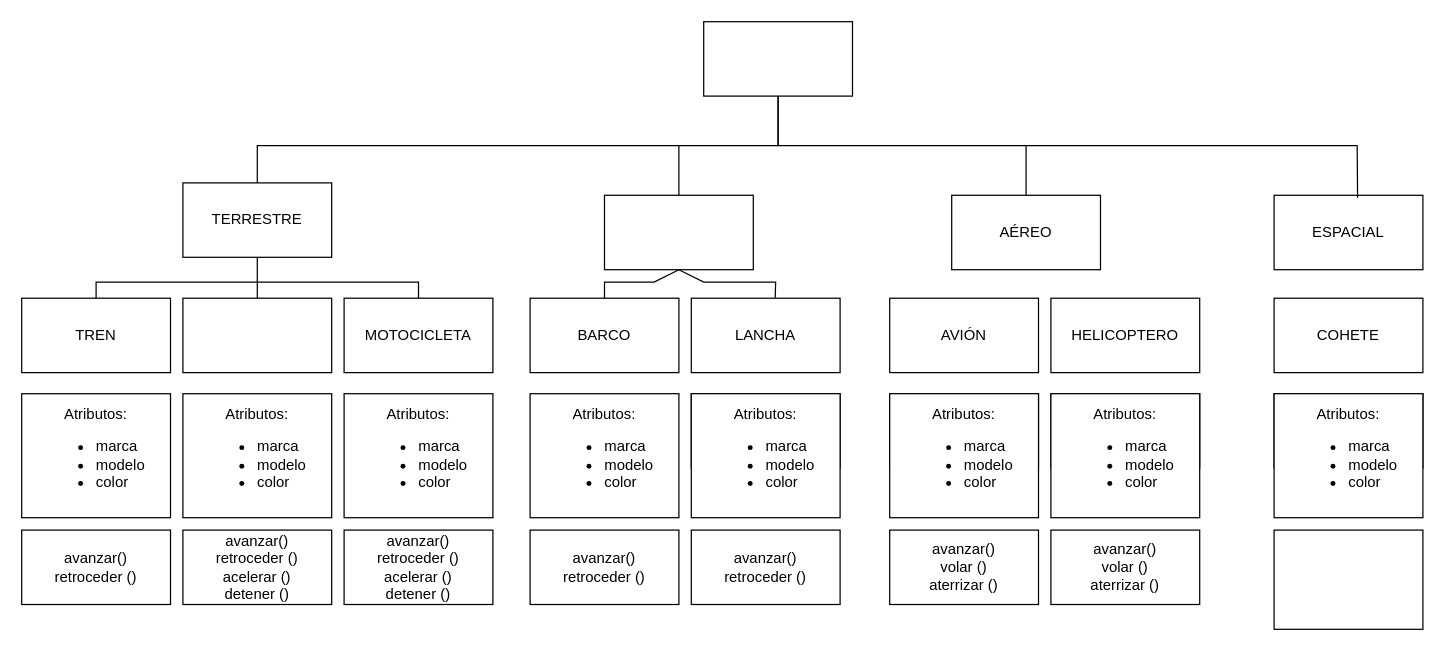
The diagram is 1445 pixels wide and 651 high, and some of its shapes have lost their labels. The centre of each missing label's shape, as x and y in pixels:
"AUTOMÓVIL" belongs at (x=257, y=335).
"avanzar() volar () acelerar () detenerse o orbitar () aterrizar ()" belongs at (x=1348, y=579).
"MARÍTIMO" belongs at (x=678, y=232).
"VEHICULO" belongs at (x=777, y=58).
